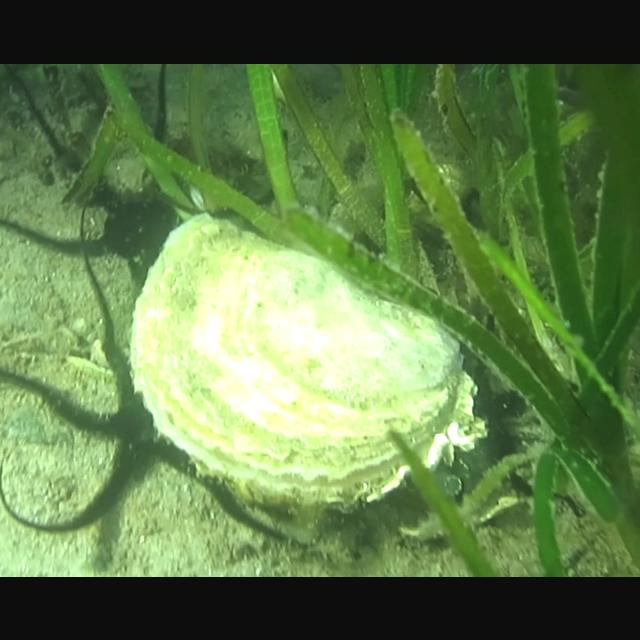Oyster-Open: (128, 212, 488, 514)
